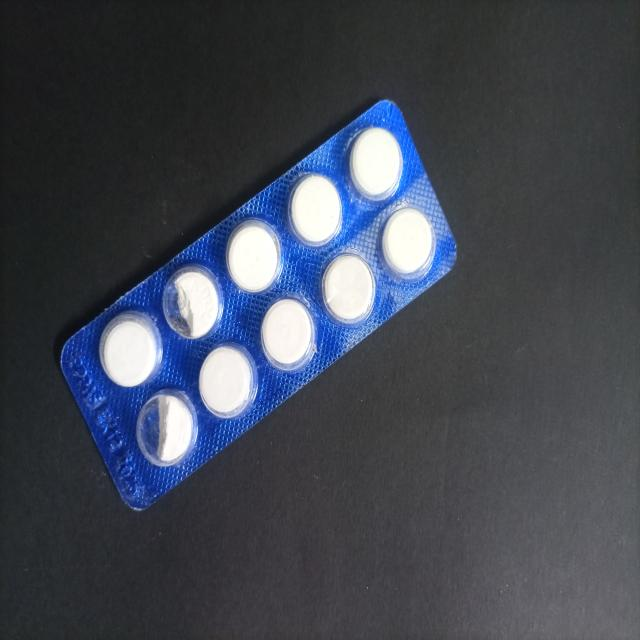defect: (133, 387, 200, 470), (160, 263, 226, 343)
